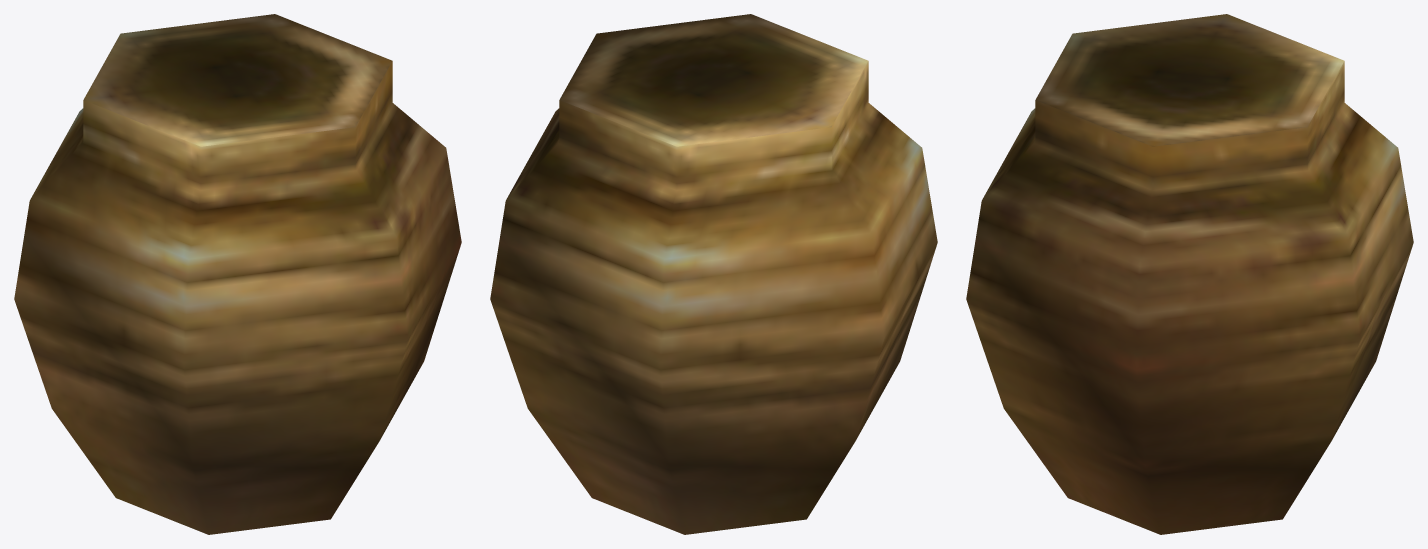
File: taoyuanzhen_guanzi.FBX
3 renders of one model, left to right at view 1: azimuth 30°, elevation 25°; view 2: azimuth 150°, elevation 25°; view 3: azimuth 270°, elevation 25°, orthographic.
Parts seen in each view (by area): view 1: taoyuanzhen_guanzi; view 2: taoyuanzhen_guanzi; view 3: taoyuanzhen_guanzi.
Boxes of the visible parts, bbox=[...] form: taoyuanzhen_guanzi: bbox=[14, 14, 461, 534]; taoyuanzhen_guanzi: bbox=[490, 14, 937, 534]; taoyuanzhen_guanzi: bbox=[966, 14, 1413, 534].
Size of the model in its own units: 23.24 by 22.67 by 22.87.
